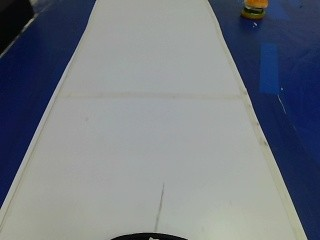burger: (238, 0, 269, 22)
